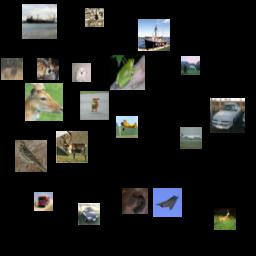airplane: (153, 188, 182, 217), (180, 127, 202, 149), (116, 116, 138, 138)
automobile: (210, 98, 245, 133), (78, 203, 100, 225)
bird: (15, 140, 47, 172)
cat: (122, 188, 148, 214)
deer: (25, 83, 63, 121), (56, 131, 88, 163), (214, 208, 236, 230), (1, 58, 23, 80)
dog: (80, 91, 109, 120), (37, 58, 59, 80), (72, 63, 91, 82)
frog: (110, 55, 145, 90)
ship: (22, 4, 57, 39), (138, 19, 170, 51)
truck: (34, 192, 53, 211)
